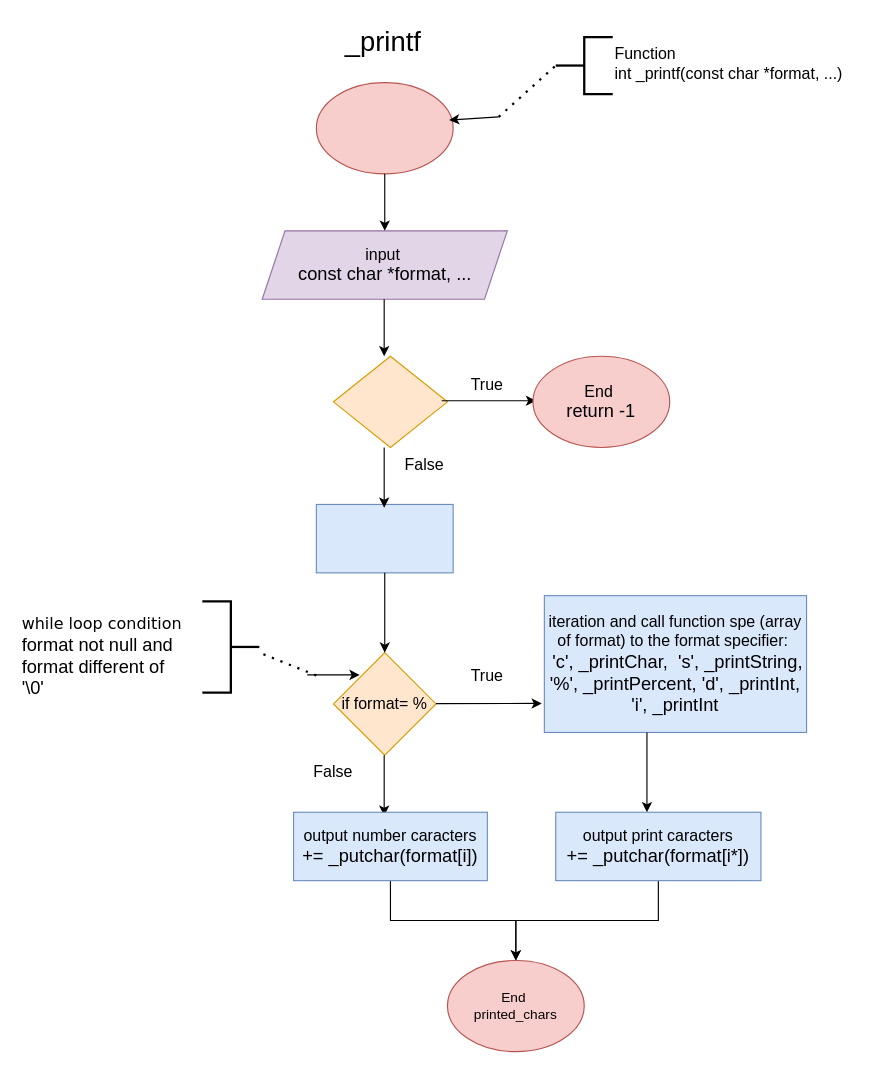
This 871x1072 diagram has some shape labels left out. Here are the shapes that lost their labels. From the top down, the centre of each, then its label:
point (384, 128): Start
point (389, 401): format is NULL?
point (384, 538): initialize arguments list args, format
